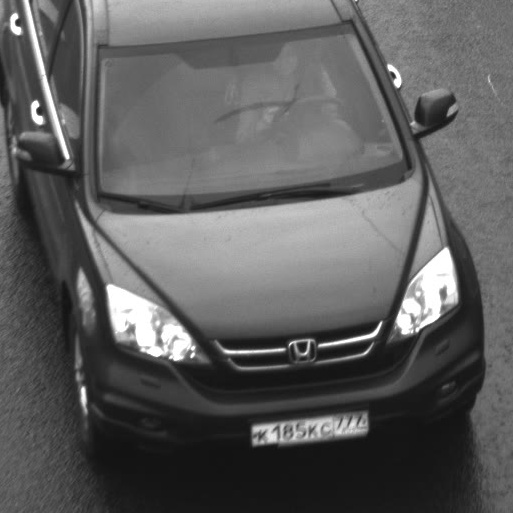plate: (240, 396, 379, 453)
